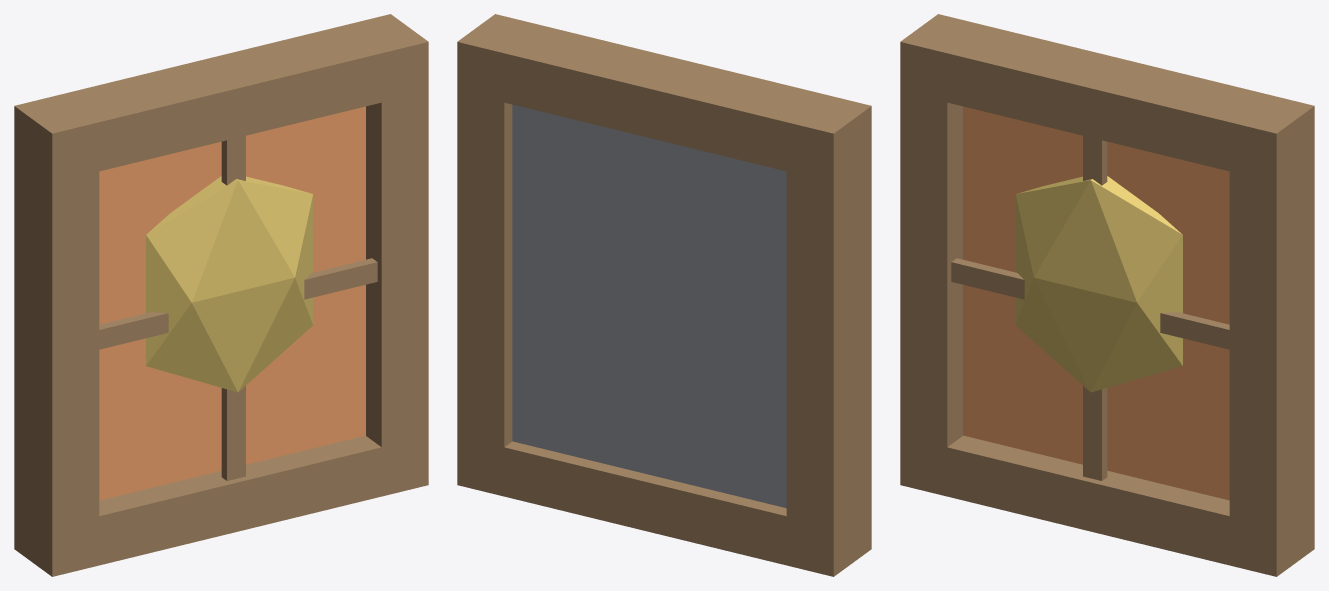
The model's file is animprop_window_01.glb.
3 views of the same model, side by side, from view 1: azimuth 30°, elevation 25°; view 2: azimuth 150°, elevation 25°; view 3: azimuth 330°, elevation 25° (orthographic).
Visible parts, largest first — view 1: animprop; view 2: animprop; view 3: animprop.
Boxes of the visible parts, bbox=[...] form: animprop: bbox=[14, 14, 428, 576]; animprop: bbox=[457, 14, 871, 576]; animprop: bbox=[900, 14, 1314, 576].
Bounding box in the file's own units: 0.8 × 0.9 × 0.1507.
